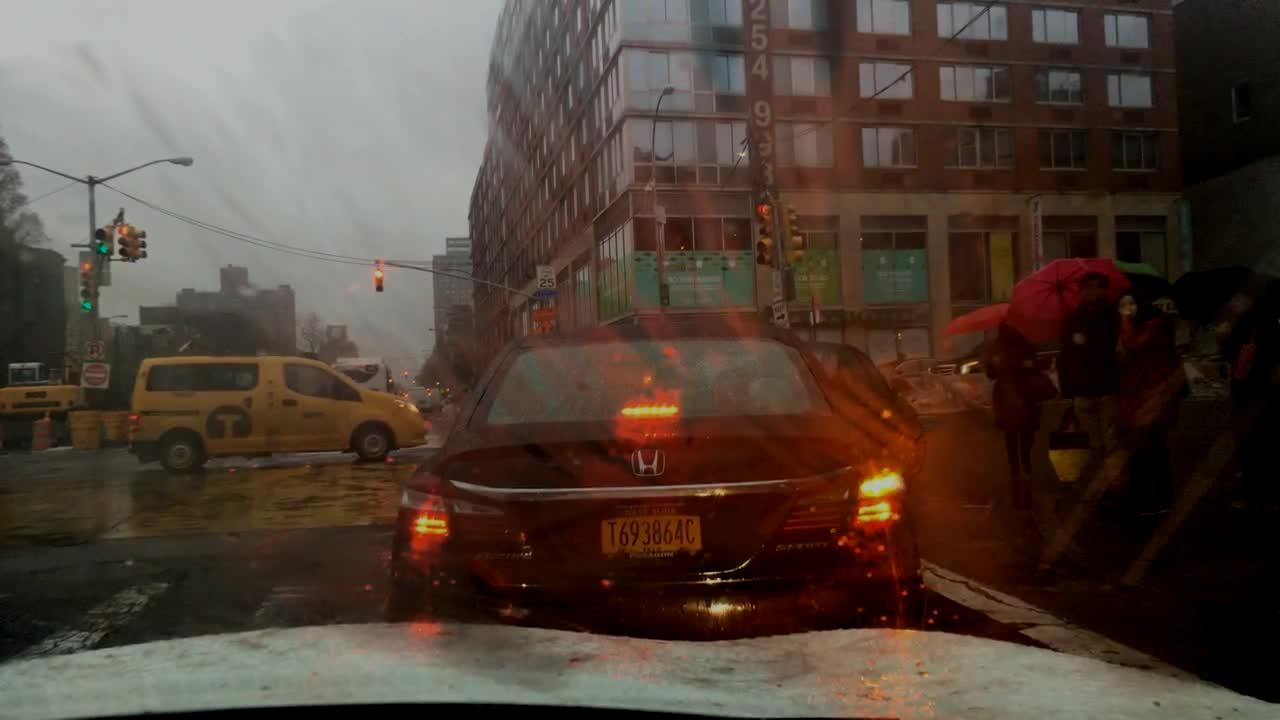Honda: (628, 444, 670, 481)
